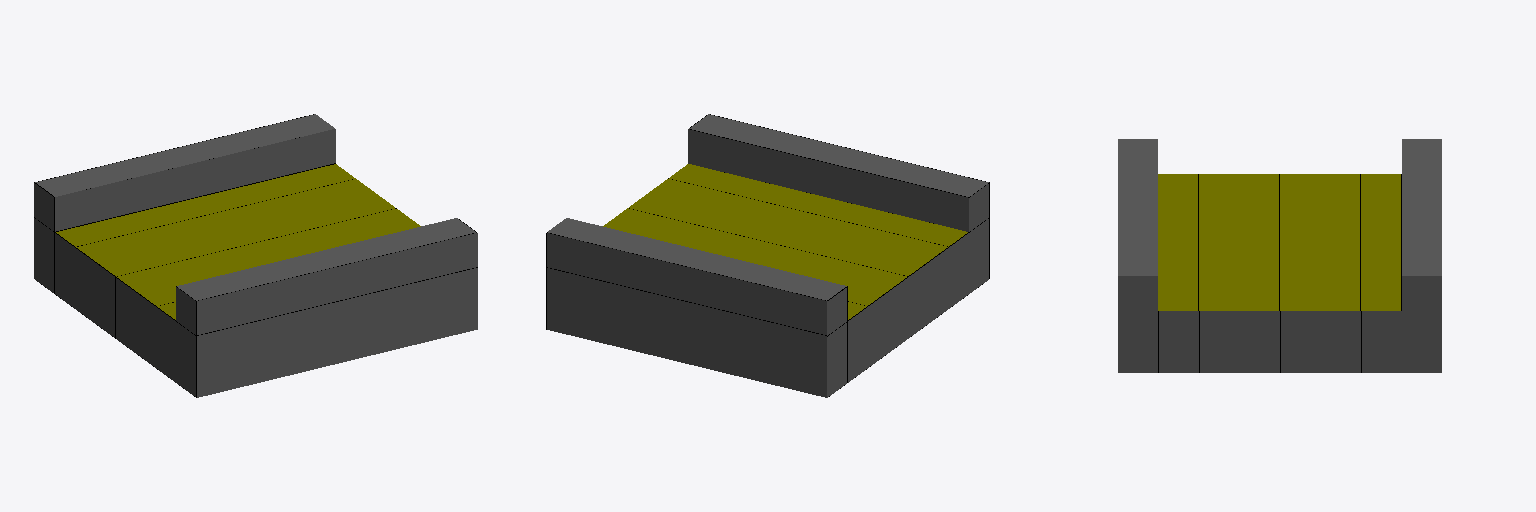
3 views of the same model, side by side, from view 1: azimuth 30°, elevation 25°; view 2: azimuth 150°, elevation 25°; view 3: azimuth 270°, elevation 25° (orthographic).
Visible parts, largest first — view 1: strieght_belt_Cube.018; view 2: strieght_belt_Cube.018; view 3: strieght_belt_Cube.018.
Part boxes in pixels (bbox=[...]): strieght_belt_Cube.018: bbox=[34, 114, 477, 397]; strieght_belt_Cube.018: bbox=[546, 114, 989, 397]; strieght_belt_Cube.018: bbox=[1118, 139, 1441, 372].
Size of the model in its own units: 2 by 0.6604 by 2.
Materials: 1 (1 with a texture image).